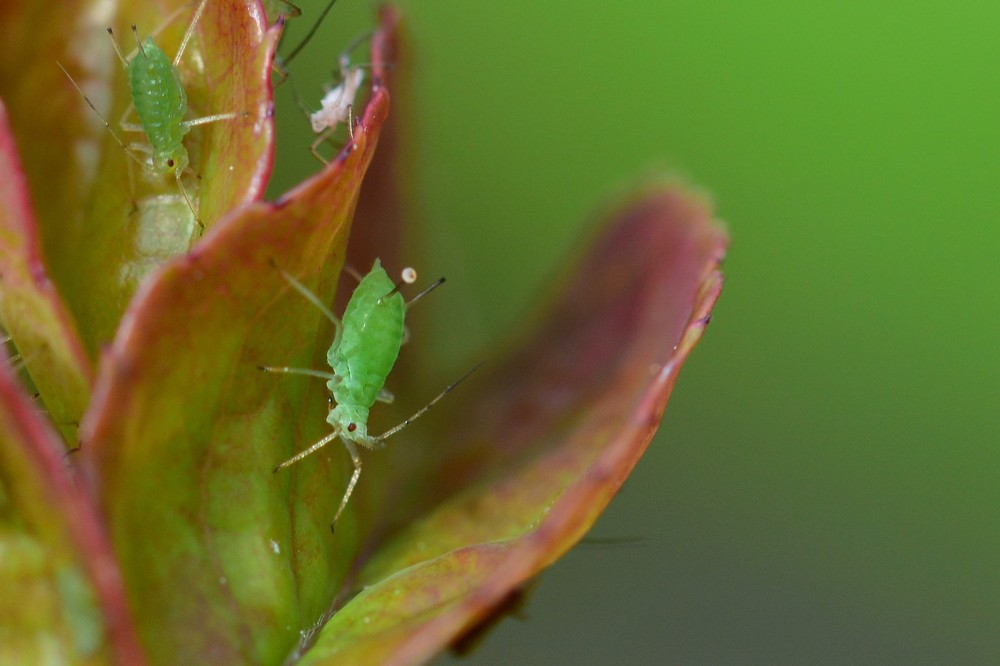Pulgon: (262, 230, 471, 534), (73, 11, 267, 232)
